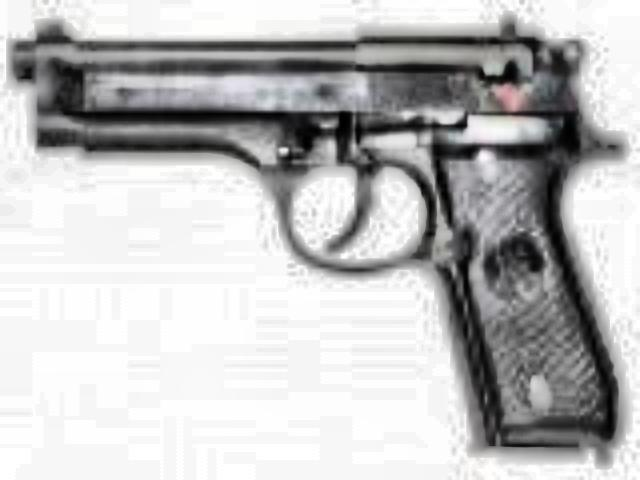pistol: (8, 8, 612, 456)
